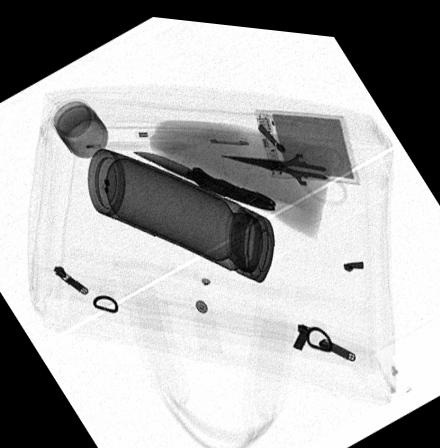Knife: (127, 147, 279, 206)
Powerbank: (253, 103, 360, 176)
Scissors: (218, 135, 349, 198)
